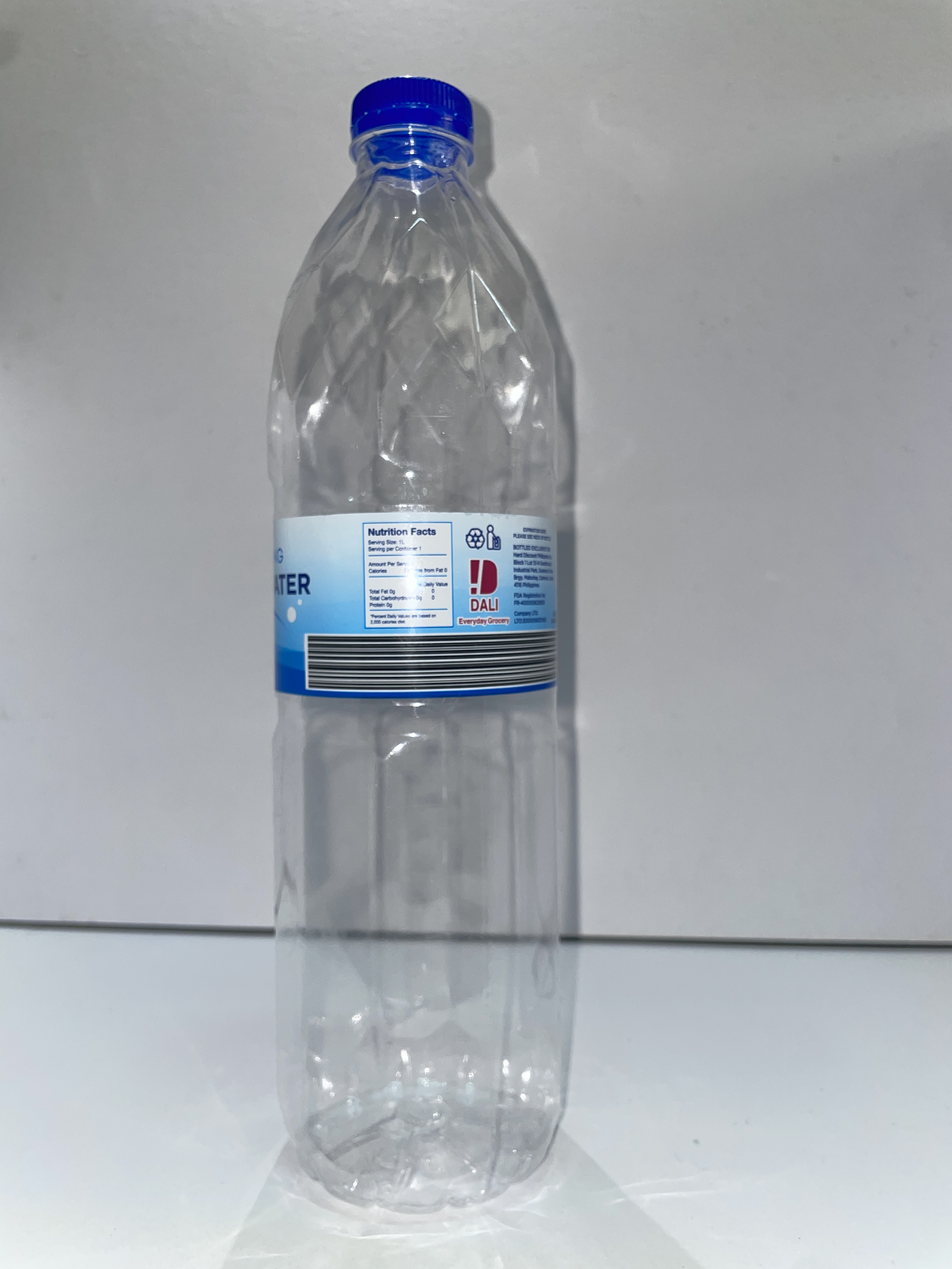aquaspring 1000ml: (268, 77, 568, 1211)
